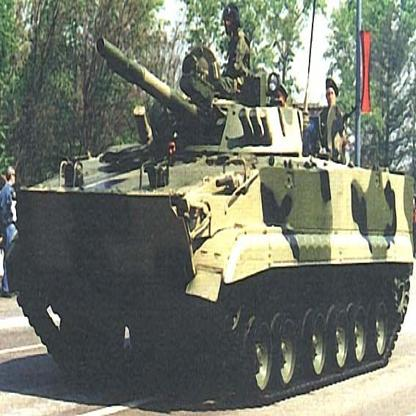Tank: (1, 32, 416, 402)
